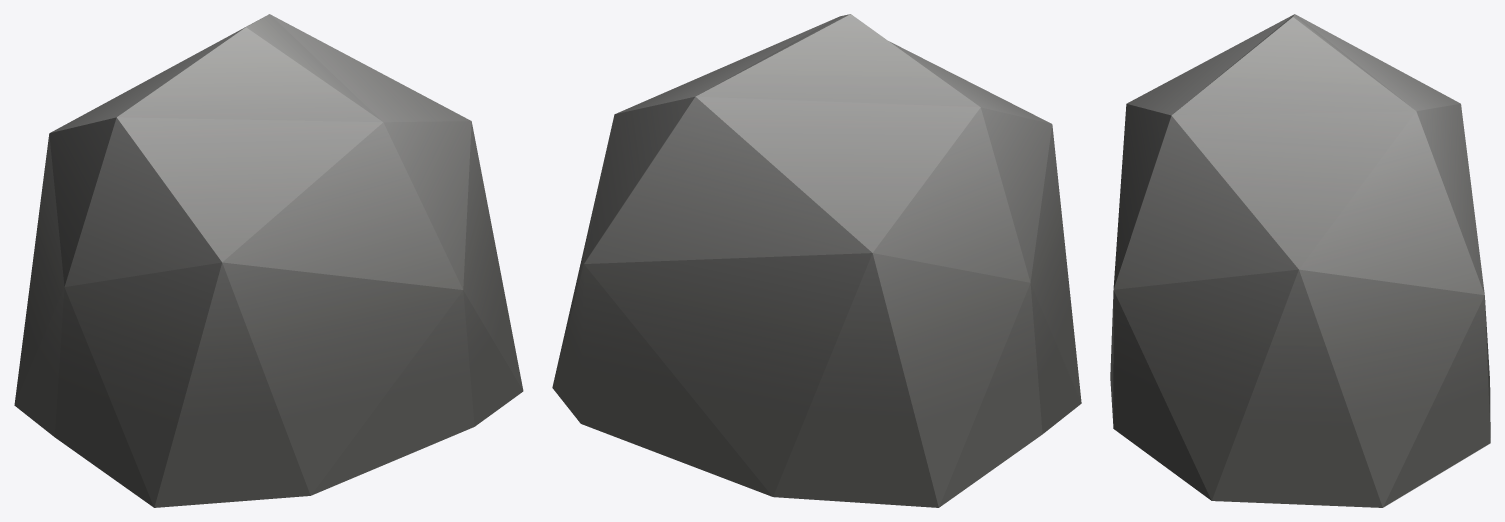
The model's file is Rock_05.fbx.
3 renders of one model, left to right at view 1: azimuth 30°, elevation 25°; view 2: azimuth 150°, elevation 25°; view 3: azimuth 270°, elevation 25°, orthographic. The views are drawn at different scales.
Visible parts, largest first — view 1: Rock_05; view 2: Rock_05; view 3: Rock_05.
Boxes of the visible parts, box(x1,y1,x2,y2) form: Rock_05: box(14, 14, 523, 507); Rock_05: box(552, 14, 1081, 507); Rock_05: box(1110, 14, 1490, 507).
Size of the model in its own units: 4431 by 3869 by 3497.
